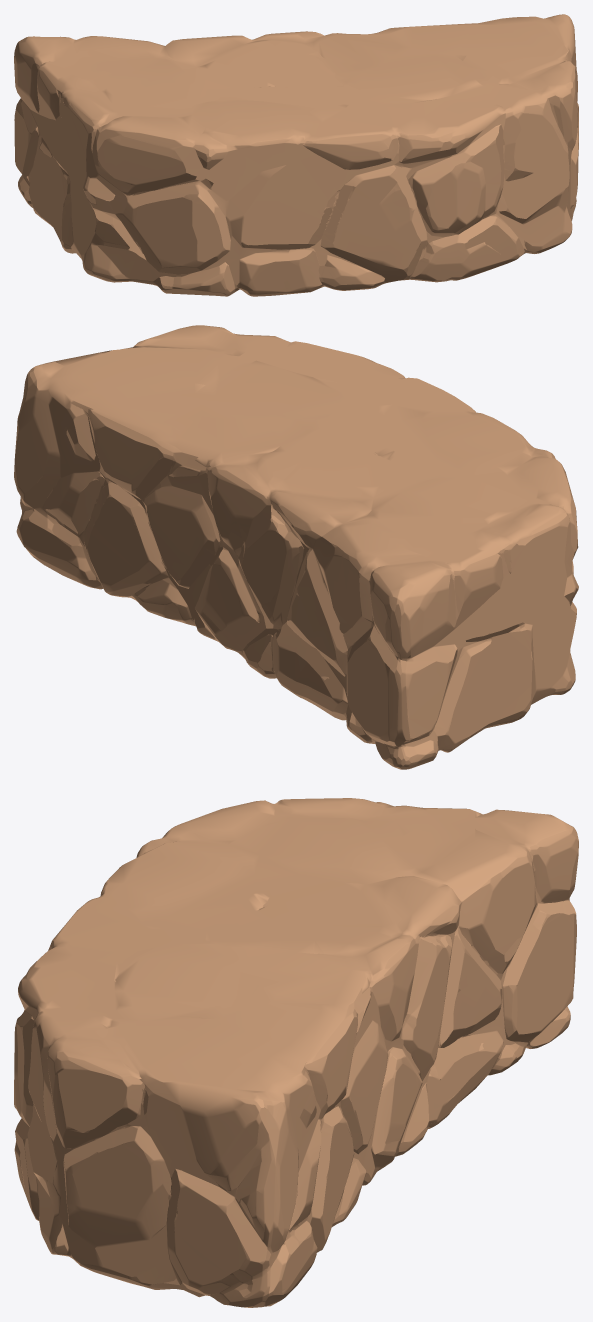
3 renders of one model, top to bottom at view 1: azimuth 30°, elevation 25°; view 2: azimuth 150°, elevation 25°; view 3: azimuth 270°, elevation 25°, orthographic. The views are drawn at different scales.
Visible parts, largest first — view 1: Mesh_14_LOD0; view 2: Mesh_14_LOD0; view 3: Mesh_14_LOD0.
Part boxes in pixels (x1,y1,x2,y2): Mesh_14_LOD0: (14,14,578,296); Mesh_14_LOD0: (14,325,578,769); Mesh_14_LOD0: (14,798,578,1307).
Size of what is drawn, in the model's own units: 5427 by 1783 by 4067.
